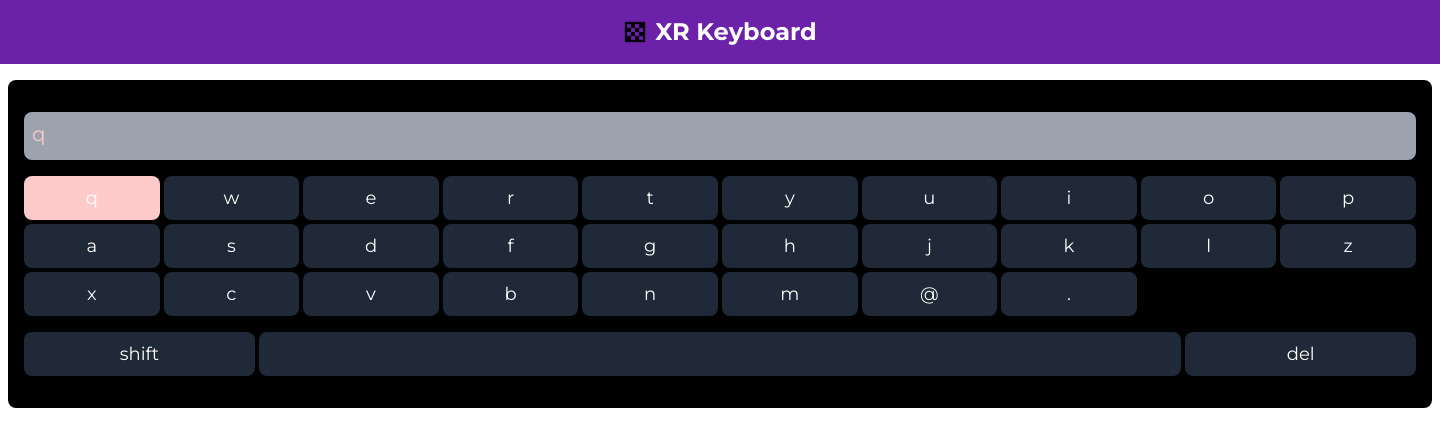
Test: <XRKeyboard /> › should render xr keyboard
Expected: the button named "space" is shown, [259, 332, 1181, 376]
Click the button "h" at x=790, y=246, box [722, 224, 858, 268]
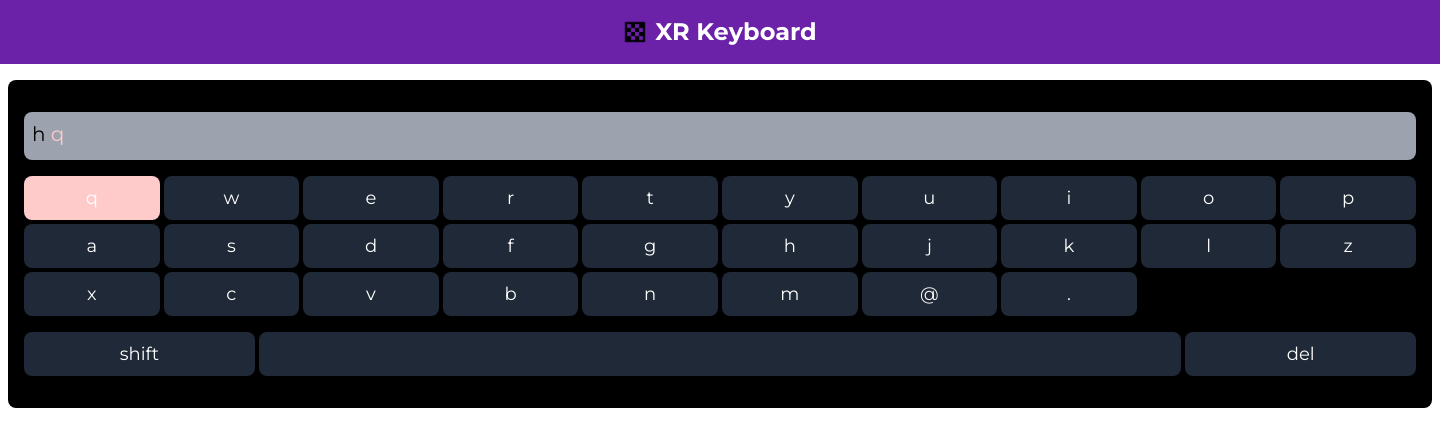
Expected: the text "h" is shown, [32, 122, 46, 146]
Click the button "@" at x=929, y=294, box [862, 272, 997, 316]
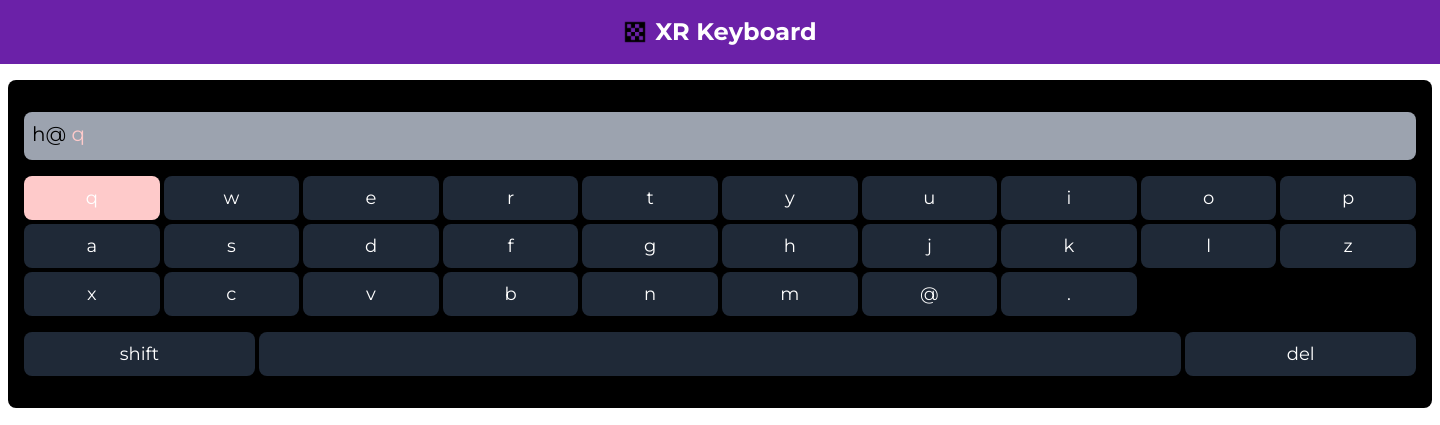
Result: the text "h@" is shown at [32, 122, 66, 146]
Click the button "del" at x=1301, y=354, box [1185, 332, 1416, 376]
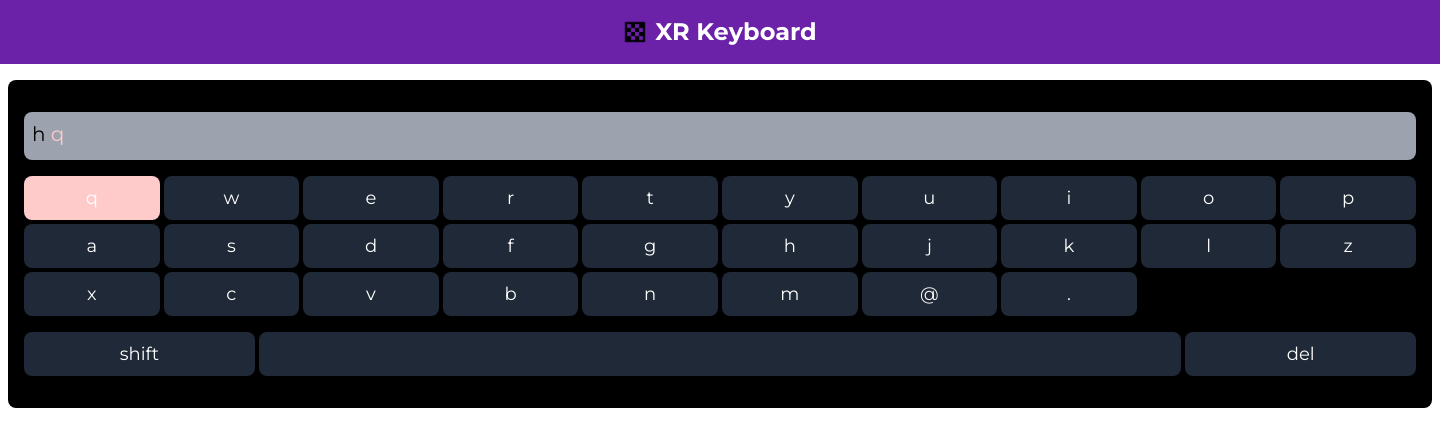
Expected: the text "h" is shown, [32, 122, 46, 146]
Click the button "shift" at x=139, y=354, box [24, 332, 255, 376]
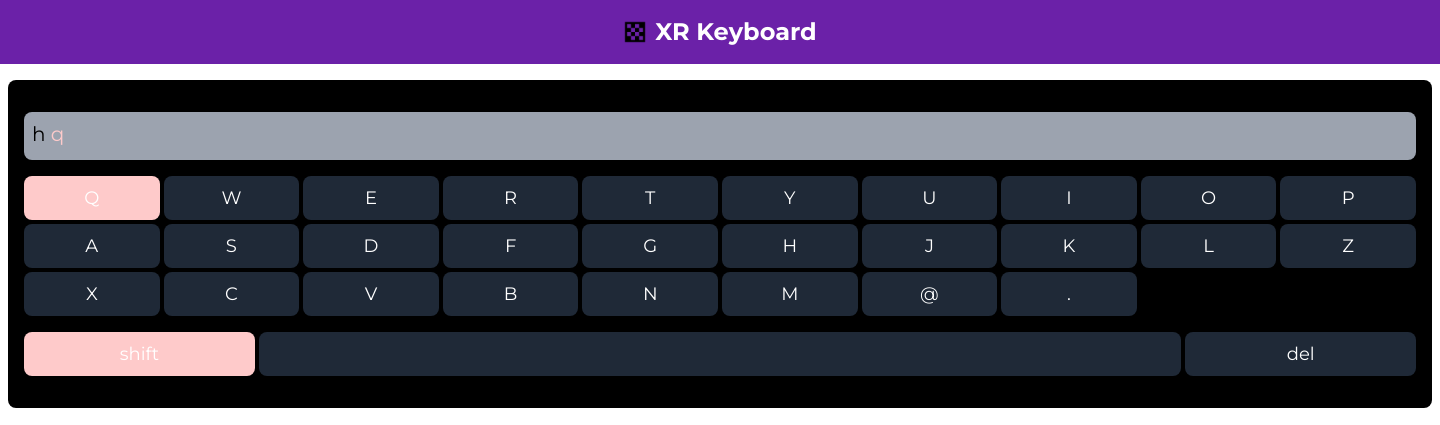
Click the button "H" at x=790, y=246, box [722, 224, 858, 268]
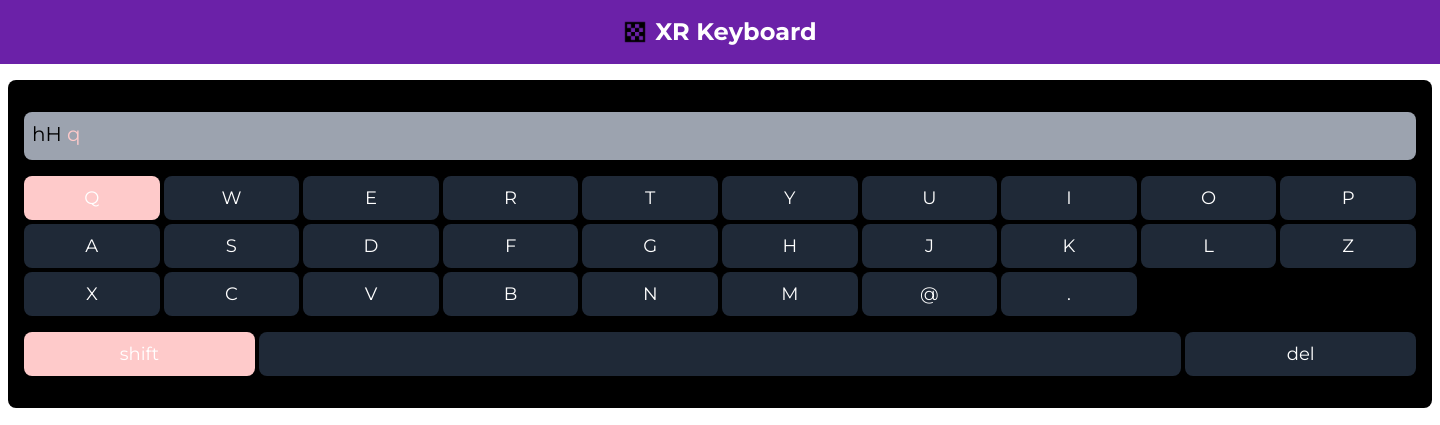
Result: the text "hH" is shown at [32, 122, 62, 146]
